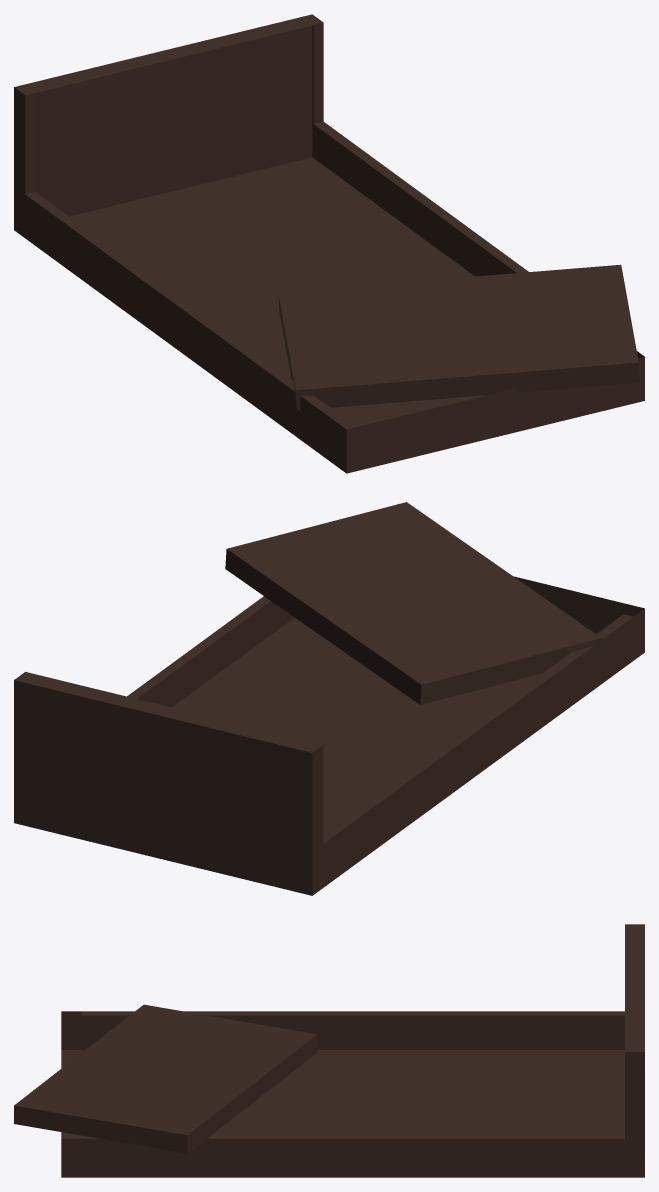
The model's file is bed_damage.fbx.
3 views of the same model, one above another, from view 1: azimuth 30°, elevation 25°; view 2: azimuth 150°, elevation 25°; view 3: azimuth 270°, elevation 25° (orthographic). The views are drawn at different scales.
Parts seen in each view (by area): view 1: Cube.001; view 2: Cube.001; view 3: Cube.001.
Boxes of the visible parts, box(x1,y1,x2,y2) form: Cube.001: box(14, 14, 644, 473); Cube.001: box(14, 502, 644, 895); Cube.001: box(14, 924, 644, 1177).
Bounding box in the file's own units: 309 × 120 × 548.
